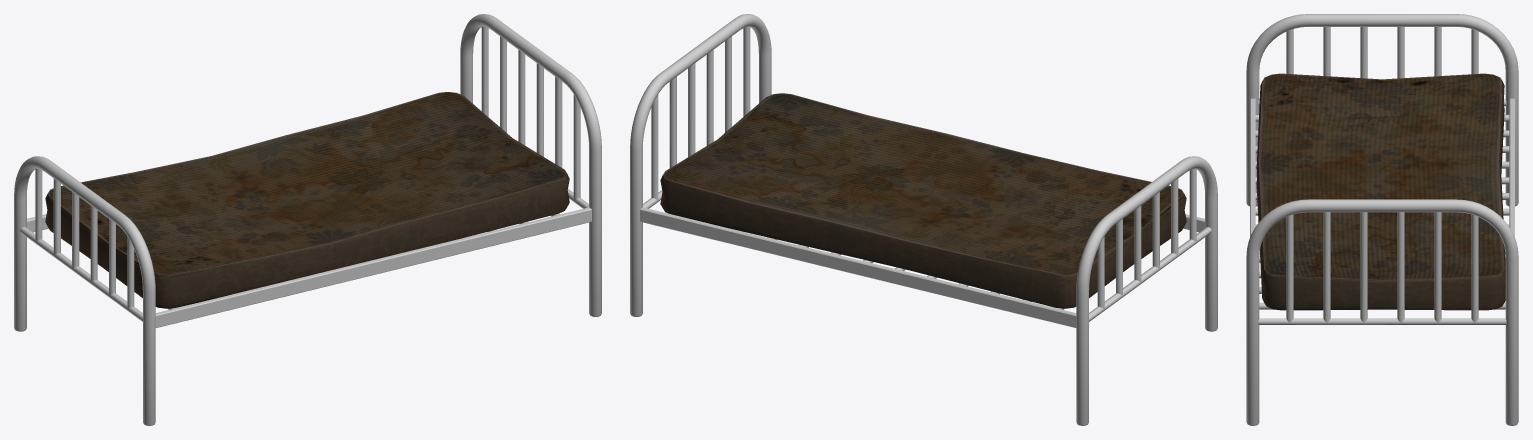
File: bed_1.fbx
3 views of the same model, side by side, from view 1: azimuth 30°, elevation 25°; view 2: azimuth 150°, elevation 25°; view 3: azimuth 270°, elevation 25° (orthographic).
Visible parts, largest first — view 1: bed_1; view 2: bed_1; view 3: bed_1.
Part boxes in pixels (<box>): bed_1: <box>14,14,601,425</box>; bed_1: <box>630,14,1217,425</box>; bed_1: <box>1246,14,1518,425</box>.
Bounding box in the file's own units: 2.87 × 1.47 × 1.33.
